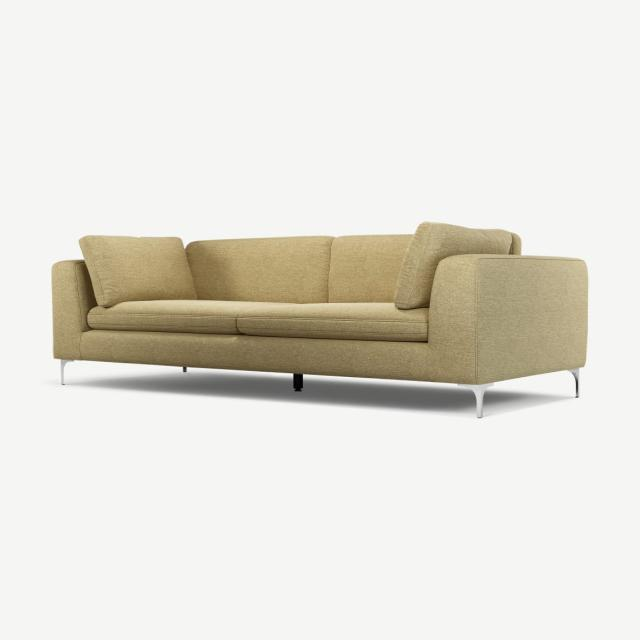Soffa: (47, 219, 592, 426)
